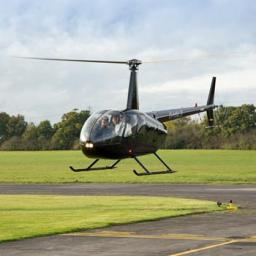helicopter: (13, 57, 220, 178)
